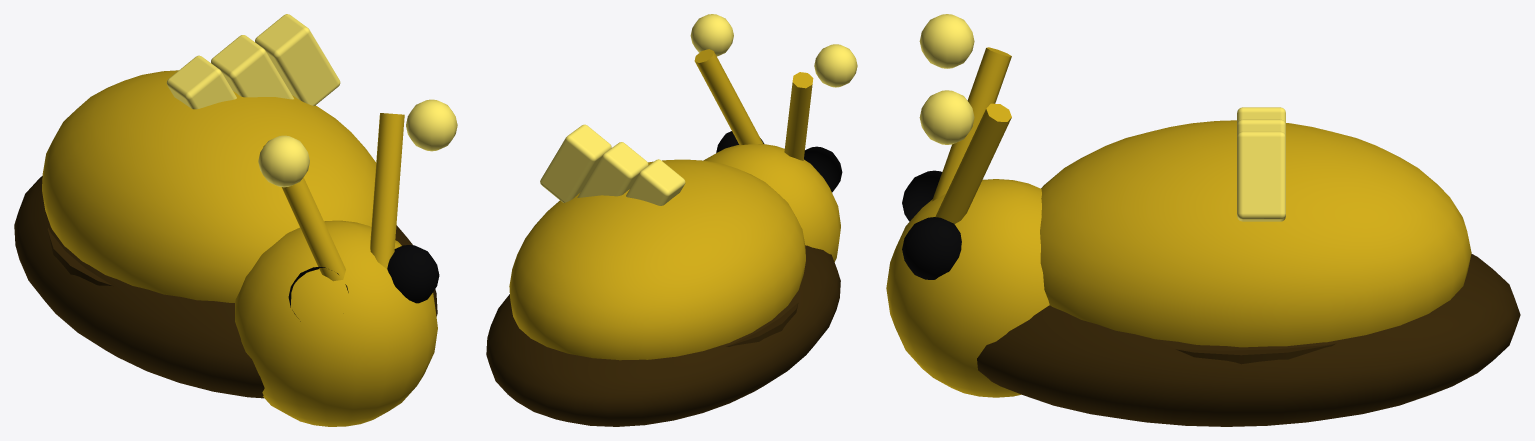
Rendered from relampago.obj.
3 views of the same model, side by side, from view 1: azimuth 30°, elevation 25°; view 2: azimuth 150°, elevation 25°; view 3: azimuth 270°, elevation 25° (orthographic). The views are drawn at different scales.
Bounding box in the file's own units: 0.448 × 0.4234 × 0.7246.
